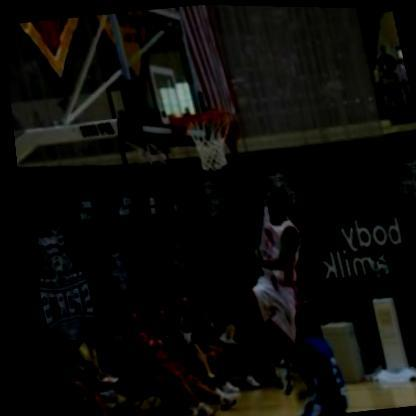basketball: (205, 106, 239, 146)
rim: (180, 105, 242, 177)
